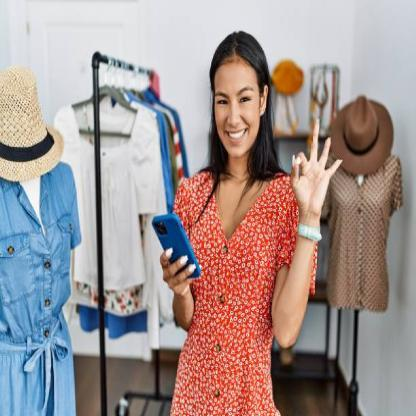ok: (288, 112, 346, 222)
